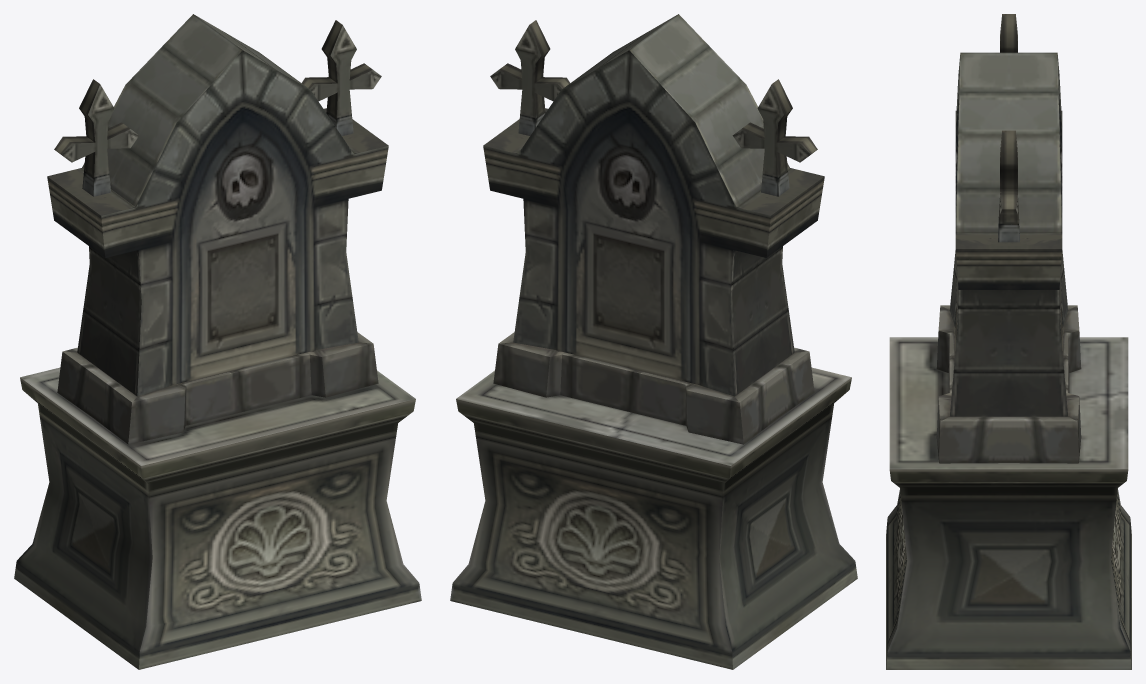
The model's file is TyrantTomb02.FBX.
The picture shows the model from 3 angles, left to right: view 1: azimuth 30°, elevation 25°; view 2: azimuth 150°, elevation 25°; view 3: azimuth 270°, elevation 25°; orthographic projection.
Visible parts, largest first — view 1: TyrantTomb02; view 2: TyrantTomb02; view 3: TyrantTomb02.
Part boxes in pixels (x1,y1,x2,y2): TyrantTomb02: (14,14,421,669); TyrantTomb02: (450,14,857,669); TyrantTomb02: (886,14,1131,669).
Size of the model in its own units: 91.71 by 152 by 61.76.
